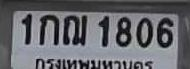0: (136, 17, 152, 47)
1: (21, 13, 31, 44), (98, 15, 108, 46)
6: (156, 17, 172, 47)
8: (115, 16, 130, 46)
A01: (39, 14, 58, 44)
A12: (62, 13, 86, 44)
BKK: (32, 56, 158, 69)
